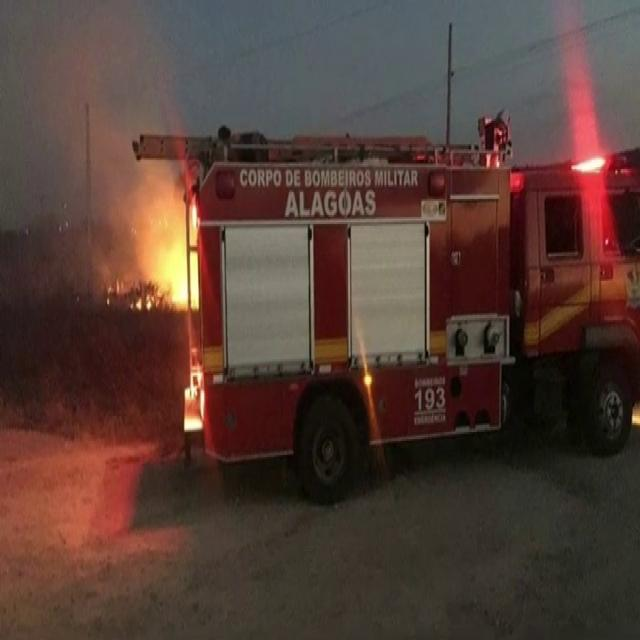Fire: (157, 200, 201, 308)
Smoke: (9, 2, 167, 197), (520, 0, 632, 146)
